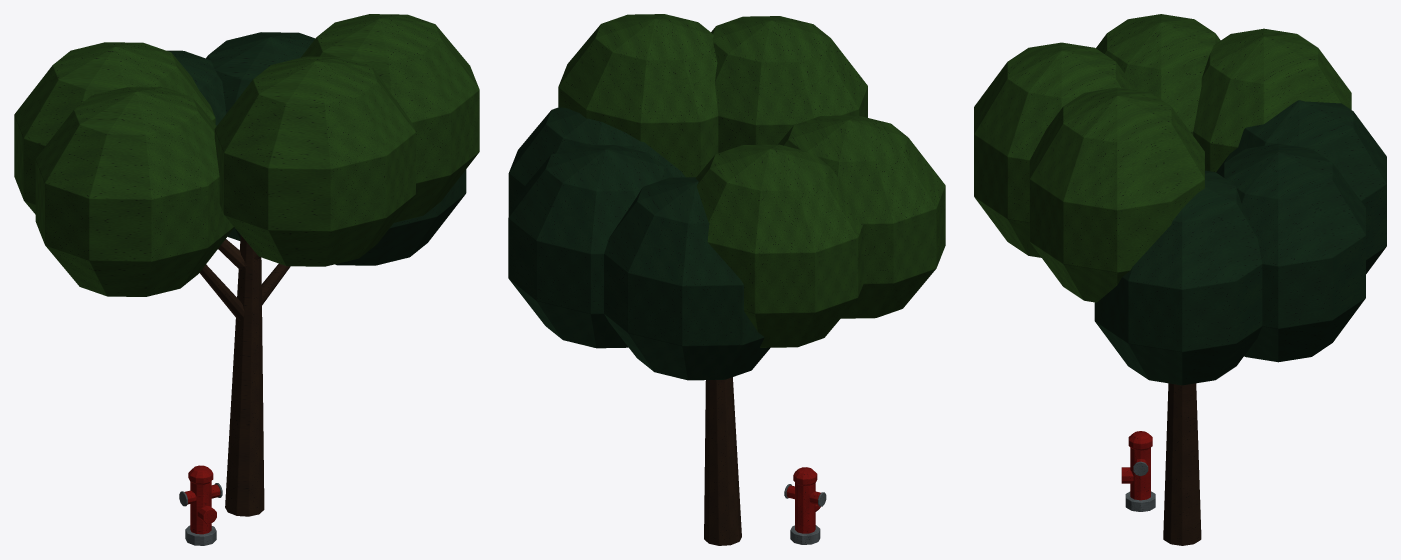
The model's file is PROP-ED73F6D75EF1_lod1.glb.
3 views of the same model, side by side, from view 1: azimuth 30°, elevation 25°; view 2: azimuth 150°, elevation 25°; view 3: azimuth 270°, elevation 25° (orthographic). The views are drawn at different scales.
Visible parts, largest first — view 1: leaf_crown.084, leaf_crown.083, trunk.075, branch.047, hydrant_barrel.001; view 2: leaf_crown.084, leaf_crown.083, trunk.075, hydrant_barrel.001; view 3: leaf_crown.084, leaf_crown.083, trunk.075, hydrant_barrel.001.
Part boxes in pixels (box(x1,y1,x2,y2)): leaf_crown.084: box(14, 14, 479, 296); leaf_crown.083: box(167, 32, 466, 265); trunk.075: box(225, 235, 264, 516); branch.047: box(199, 239, 290, 320); hydrant_barrel.001: box(190, 481, 211, 534); leaf_crown.084: box(558, 14, 945, 347); leaf_crown.083: box(508, 107, 770, 380); trunk.075: box(704, 377, 741, 545); hydrant_barrel.001: box(795, 482, 815, 533); leaf_crown.084: box(974, 14, 1351, 302); leaf_crown.083: box(1094, 100, 1386, 385); trunk.075: box(1163, 383, 1201, 545); hydrant_barrel.001: box(1130, 447, 1150, 500).
Bounding box in the file's own units: 5.89 × 6.52 × 4.96.
5 materials, 5 textured.
